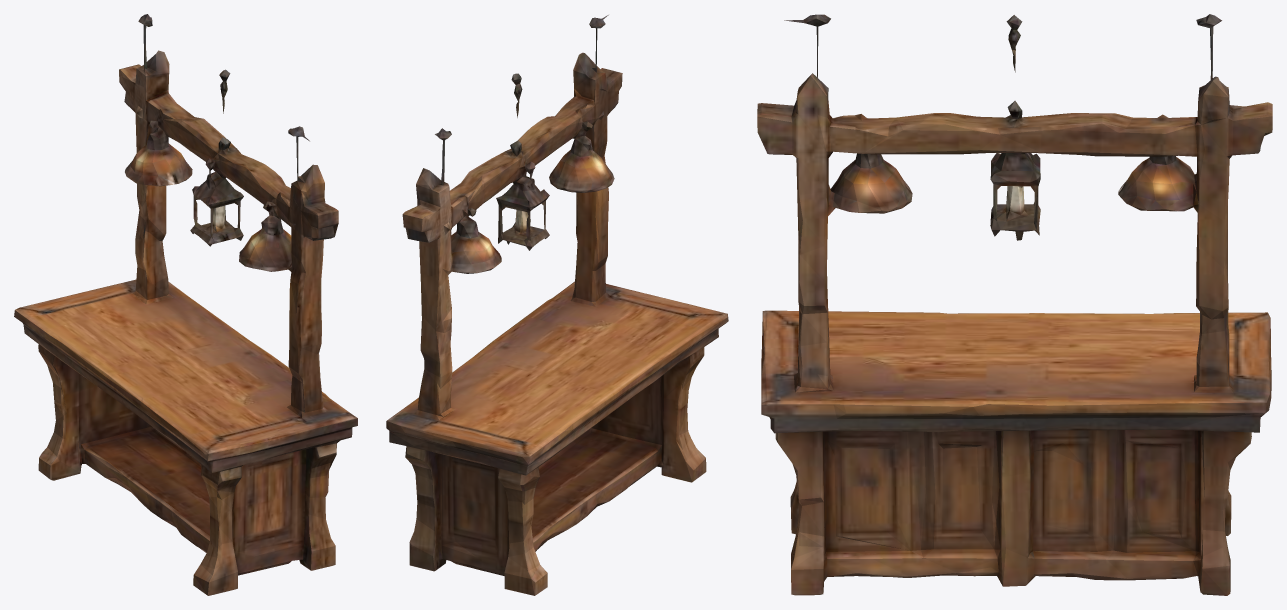
File: bench_lantern_posts_lod0.glb
The picture shows the model from 3 angles, left to right: view 1: azimuth 30°, elevation 25°; view 2: azimuth 150°, elevation 25°; view 3: azimuth 270°, elevation 25°; orthographic projection. The views are drawn at different scales.
Visible parts, largest first — view 1: bench_lantern_posts_lod0; view 2: bench_lantern_posts_lod0; view 3: bench_lantern_posts_lod0.
Part boxes in pixels (box(x1,y1,x2,y2)): bench_lantern_posts_lod0: box(14, 14, 357, 595); bench_lantern_posts_lod0: box(386, 15, 728, 595); bench_lantern_posts_lod0: box(757, 14, 1272, 595).
Bounding box in the file's own units: 0.7897 × 2.2 × 1.81.
Materials: 1 (1 with a texture image).
